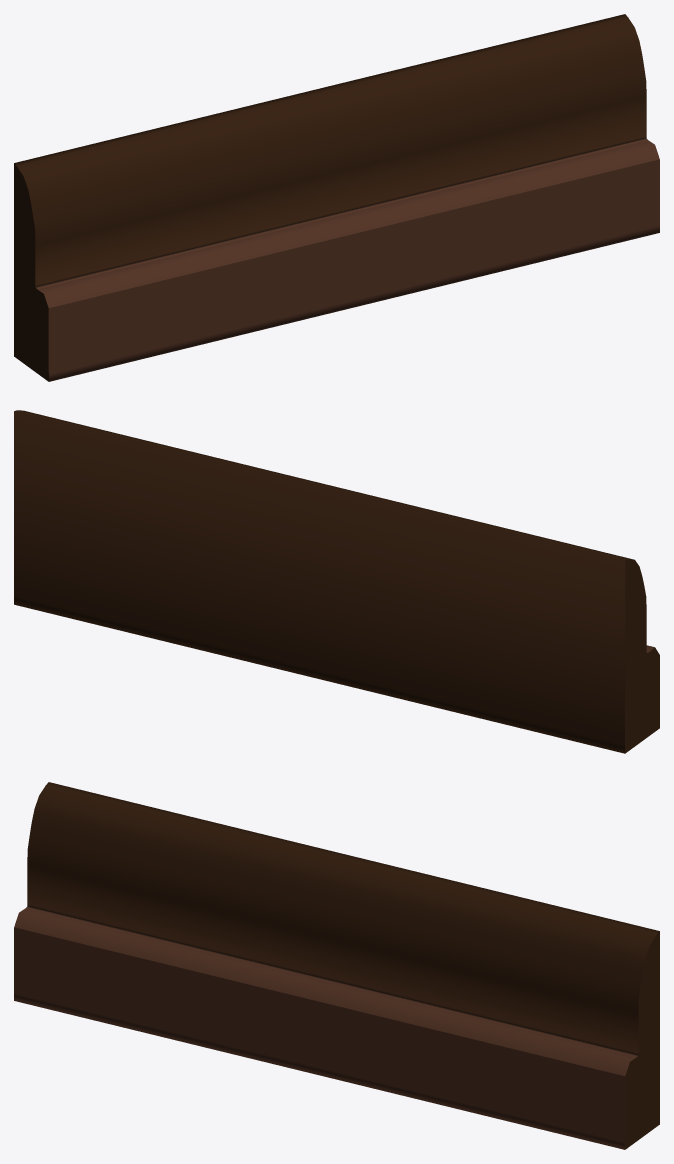
Rendered from MiscBaseboard.fbx.
3 views of the same model, one above another, from view 1: azimuth 30°, elevation 25°; view 2: azimuth 150°, elevation 25°; view 3: azimuth 330°, elevation 25° (orthographic).
Visible parts, largest first — view 1: FloorBoardUVd:extrudedSurface4; view 2: FloorBoardUVd:extrudedSurface4; view 3: FloorBoardUVd:extrudedSurface4.
Part boxes in pixels (x1,y1,x2,y2): FloorBoardUVd:extrudedSurface4: (14, 14, 659, 381); FloorBoardUVd:extrudedSurface4: (14, 410, 659, 753); FloorBoardUVd:extrudedSurface4: (14, 782, 659, 1149).
Size of the model in its own units: 200 by 60.48 by 19.76.
